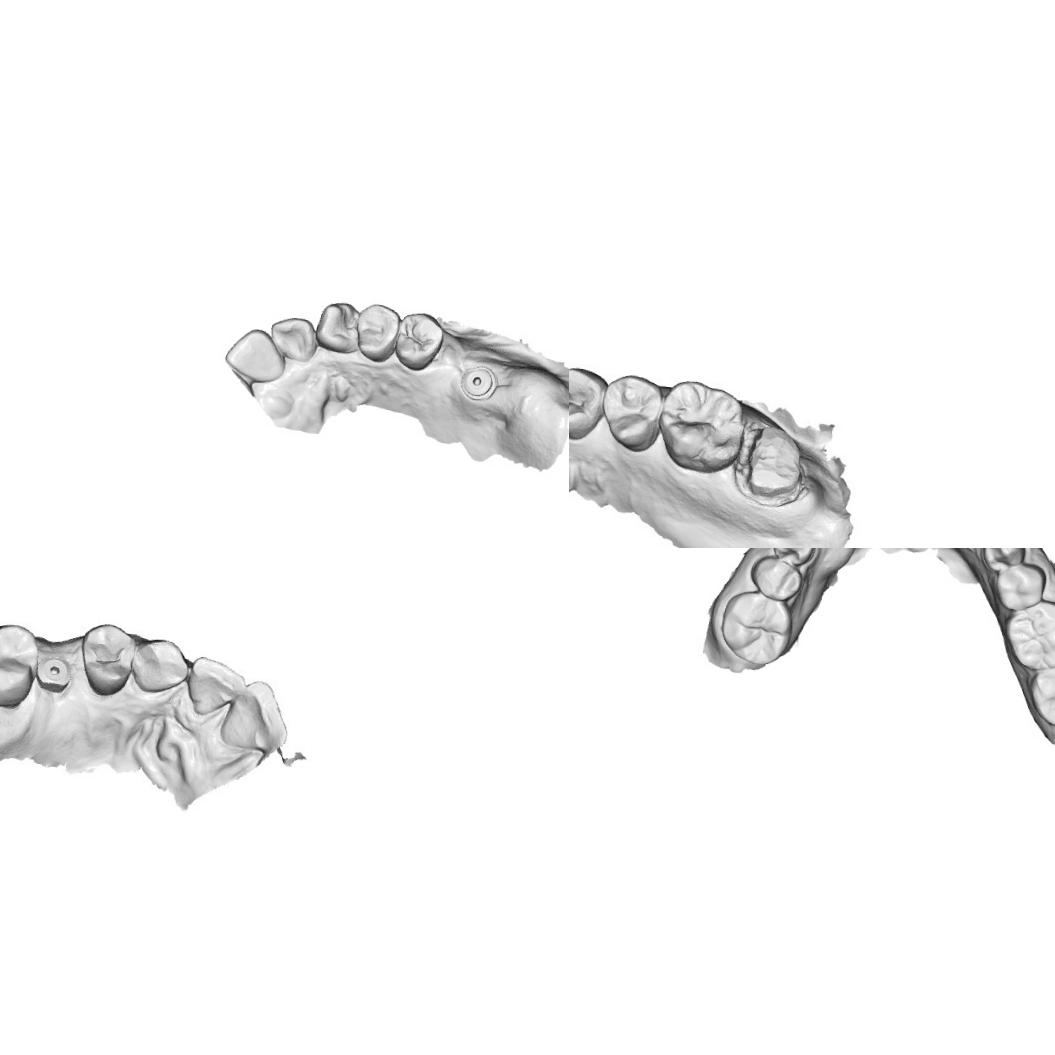canine: (129, 634, 191, 696), (312, 297, 361, 355)
crown: (735, 410, 818, 503)
implant: (456, 362, 498, 403), (35, 654, 72, 691)
incisor: (216, 676, 288, 756), (183, 651, 246, 719), (220, 324, 288, 386), (266, 312, 318, 363)
molar: (659, 377, 744, 467), (716, 588, 796, 668), (1001, 594, 1055, 673), (0, 617, 38, 709), (1025, 660, 1055, 730)
premolar: (76, 618, 137, 698), (600, 372, 664, 446), (390, 308, 446, 374), (569, 363, 609, 444), (992, 558, 1048, 613), (746, 552, 804, 604), (353, 300, 400, 363), (977, 548, 1028, 574), (768, 548, 818, 567)
